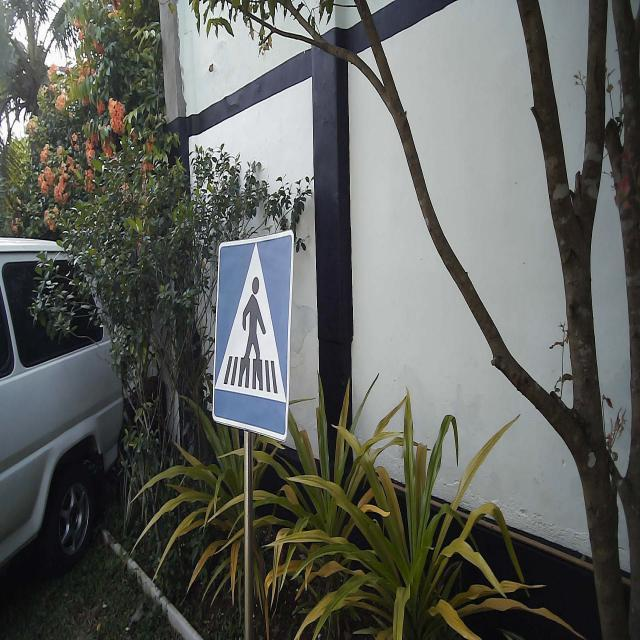crosswalk_sign: (210, 225, 296, 446)
